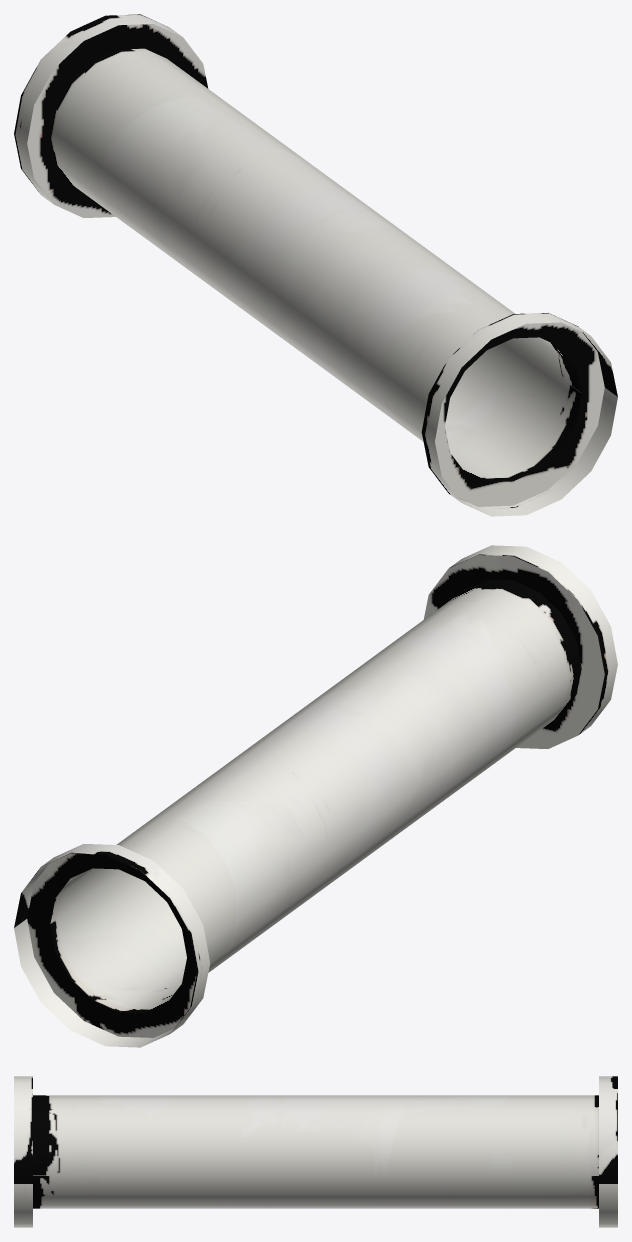
The model's file is props_mining_industrial_pipe01_128_01.glb.
3 views of the same model, one above another, from view 1: azimuth 30°, elevation 25°; view 2: azimuth 150°, elevation 25°; view 3: azimuth 270°, elevation 25° (orthographic). The views are drawn at different scales.
Parts seen in each view (by area): view 1: models/props_mining/industrial_pipe01_128_01; view 2: models/props_mining/industrial_pipe01_128_01; view 3: models/props_mining/industrial_pipe01_128_01.
Part boxes in pixels (box(x1,y1,x2,y2)): models/props_mining/industrial_pipe01_128_01: box(14, 14, 617, 516); models/props_mining/industrial_pipe01_128_01: box(14, 545, 617, 1047); models/props_mining/industrial_pipe01_128_01: box(14, 1076, 617, 1227).
Size of the model in its own units: 32.16 by 32.16 by 128.
1 material, 1 textured.
